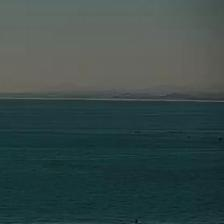surfer: (134, 219, 138, 223)
